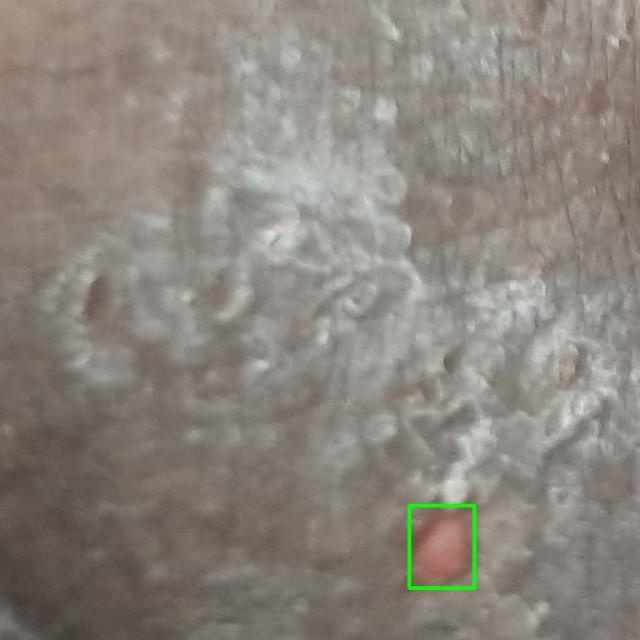Eczema: (409, 505, 474, 588)
